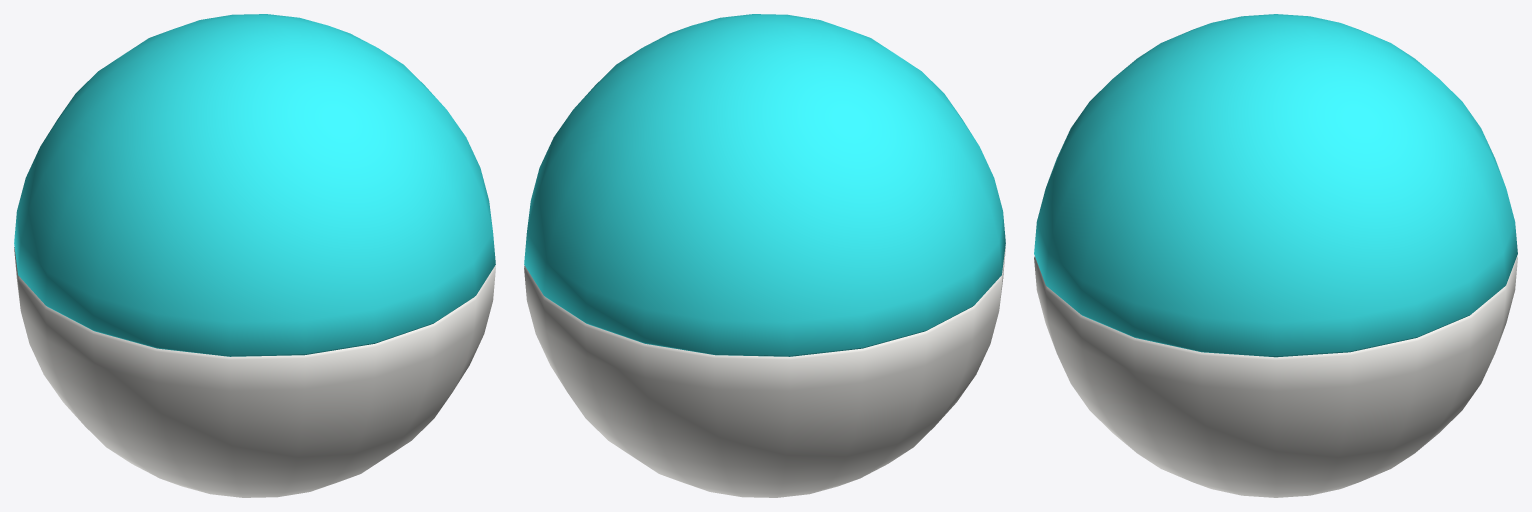
Rendered from CapsuleToyB.fbx.
The picture shows the model from 3 angles, left to right: view 1: azimuth 30°, elevation 25°; view 2: azimuth 150°, elevation 25°; view 3: azimuth 270°, elevation 25°; orthographic projection.
Visible parts, largest first — view 1: SM_VA_CapsuleToyA.mo; view 2: SM_VA_CapsuleToyA.mo; view 3: SM_VA_CapsuleToyA.mo.
Boxes of the visible parts, x1=… form: SM_VA_CapsuleToyA.mo: x1=14, y1=14, x2=495, y2=497; SM_VA_CapsuleToyA.mo: x1=524, y1=14, x2=1005, y2=497; SM_VA_CapsuleToyA.mo: x1=1034, y1=14, x2=1517, y2=497.
Size of the model in its own units: 0.9992 by 1 by 0.9992.
